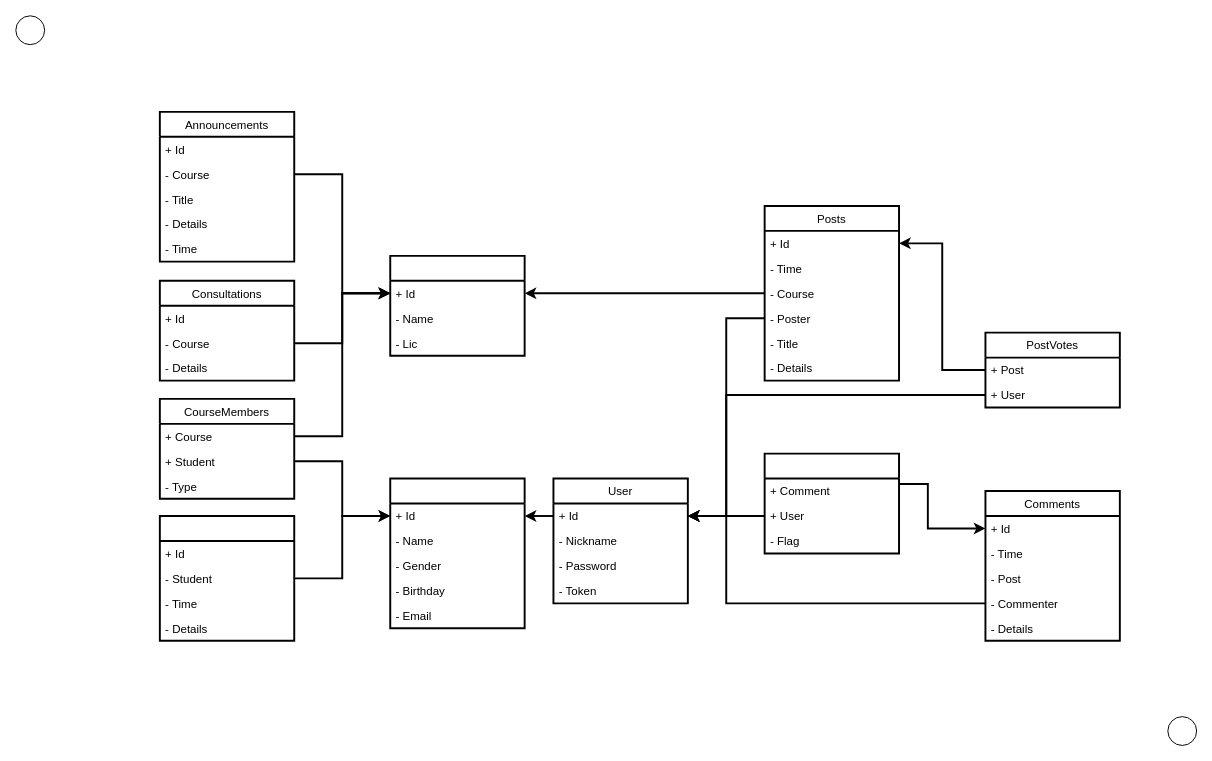
This 1212x761 diagram has some shape labels left out. The shapes that lost their labels are listed below. From the top down, each one's box as (x1, y1, x2, y2) in pixels, then its label:
(389, 254, 525, 356): Courses
(763, 452, 900, 554): CommentVotes
(389, 477, 525, 629): Students
(158, 515, 295, 641): Upcoming
